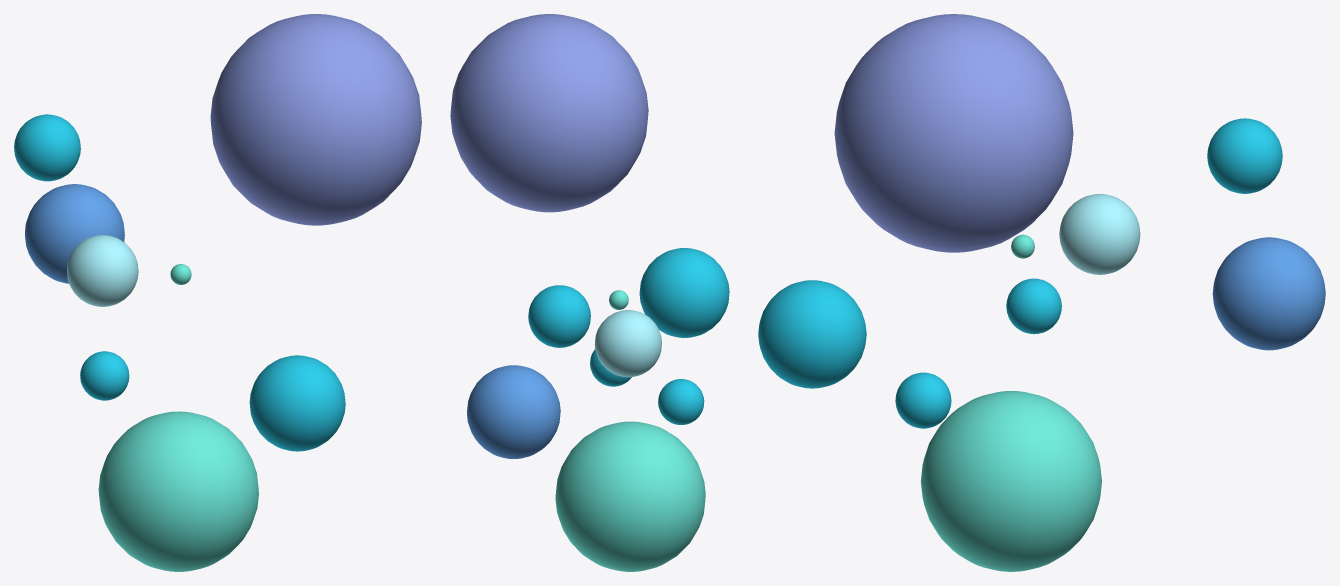
Rendered from asset.glb.
The picture shows the model from 3 angles, left to right: view 1: azimuth 30°, elevation 25°; view 2: azimuth 150°, elevation 25°; view 3: azimuth 270°, elevation 25°; orthographic projection. The views are drawn at different scales.
Visible parts, largest first — view 1: Sphere.003, Sphere.005, Sphere.008, Sphere.004, Sphere.002, Sphere.007, Sphere.006; view 2: Sphere.003, Sphere.005, Sphere.004, Sphere.008, Sphere.002, Sphere.007, Sphere.006, Sphere.001; view 3: Sphere.003, Sphere.005, Sphere.004, Sphere.008, Sphere.002, Sphere.007, Sphere.001, Sphere.006.
Boxes of the visible parts, x1,y1,x2,y2 form: Sphere.003: [210, 14, 421, 225]; Sphere.005: [98, 411, 258, 571]; Sphere.008: [249, 355, 345, 451]; Sphere.004: [25, 184, 124, 283]; Sphere.002: [67, 235, 138, 306]; Sphere.007: [14, 114, 80, 181]; Sphere.006: [80, 351, 129, 400]; Sphere.003: [450, 14, 648, 212]; Sphere.005: [555, 421, 705, 571]; Sphere.004: [467, 365, 560, 458]; Sphere.008: [639, 248, 729, 337]; Sphere.002: [594, 310, 661, 377]; Sphere.007: [528, 285, 590, 347]; Sphere.006: [658, 379, 704, 424]; Sphere.001: [590, 349, 631, 386]; Sphere.003: [834, 14, 1073, 252]; Sphere.005: [920, 391, 1101, 571]; Sphere.004: [1212, 237, 1325, 350]; Sphere.008: [758, 280, 866, 388]; Sphere.002: [1059, 194, 1140, 274]; Sphere.007: [1207, 118, 1282, 193]; Sphere.001: [895, 372, 951, 428]; Sphere.006: [1006, 278, 1061, 334].
Bounding box in the file's own units: 250 × 440 × 377.
